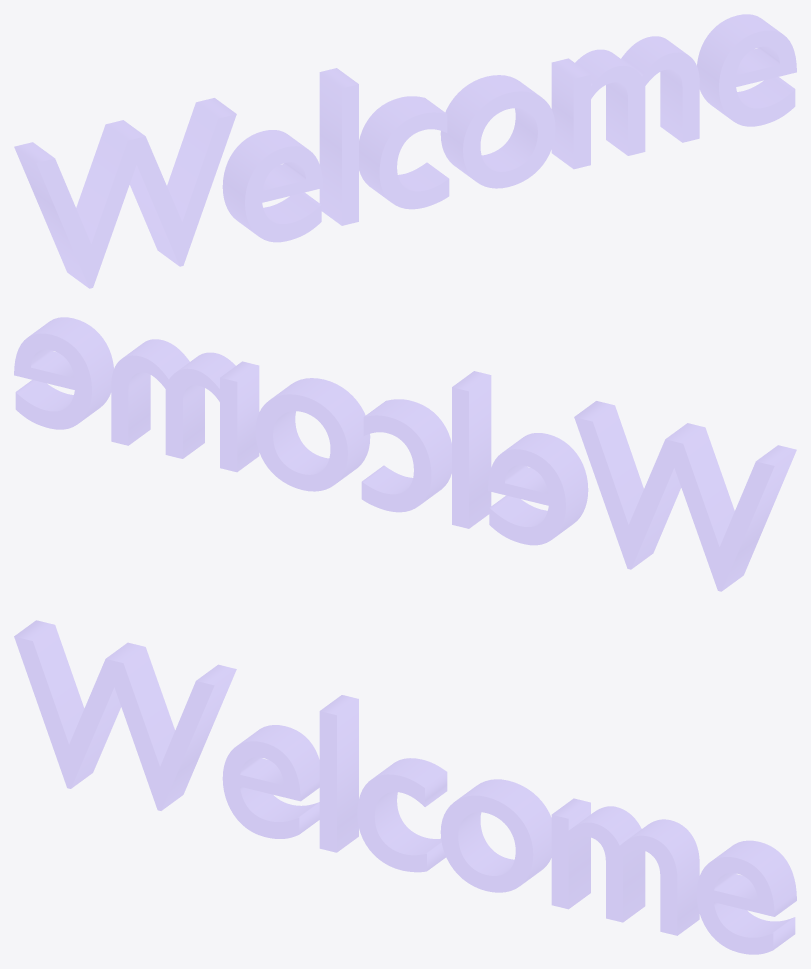
The model's file is weltext.glb.
3 renders of one model, top to bottom at view 1: azimuth 30°, elevation 25°; view 2: azimuth 150°, elevation 25°; view 3: azimuth 330°, elevation 25°, orthographic.
Visible parts, largest first — view 1: Text; view 2: Text; view 3: Text.
Boxes of the visible parts, left/top/right/bottom form: Text: left=14, top=14, right=796, bottom=288; Text: left=14, top=317, right=796, bottom=591; Text: left=14, top=620, right=796, bottom=954.
Bounding box in the file's own units: 3.95 × 0.691 × 0.2.
